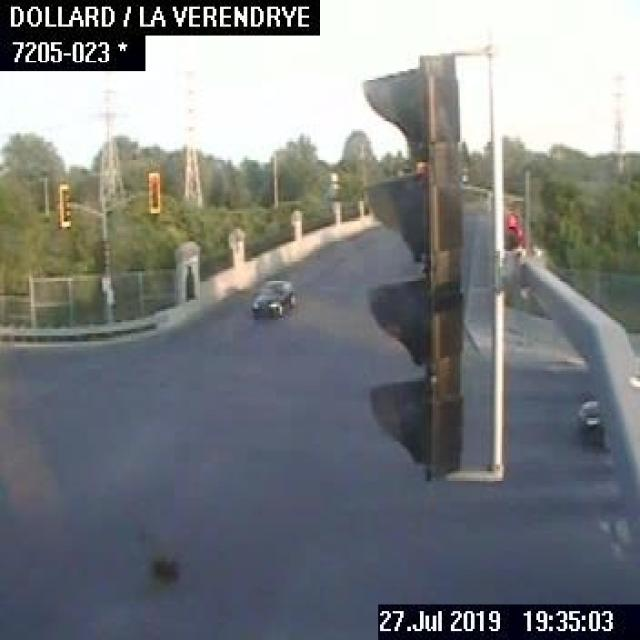vehicle: (575, 398, 607, 453), (249, 278, 294, 317)
